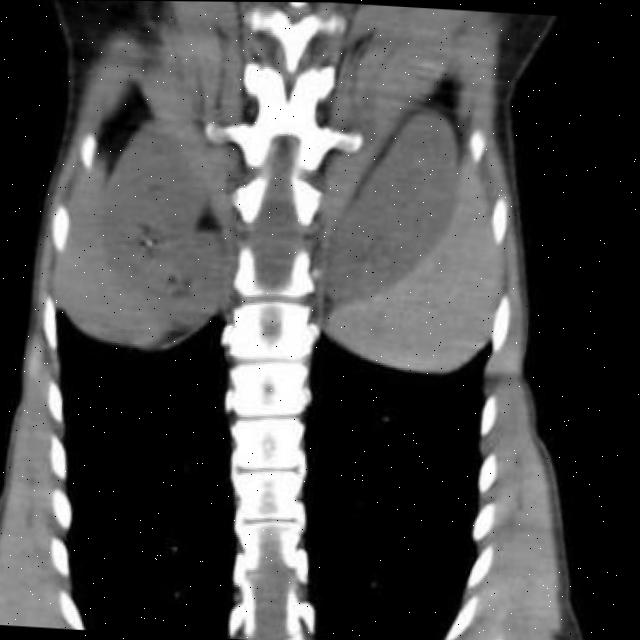Tas_Var: (141, 234, 156, 251)
